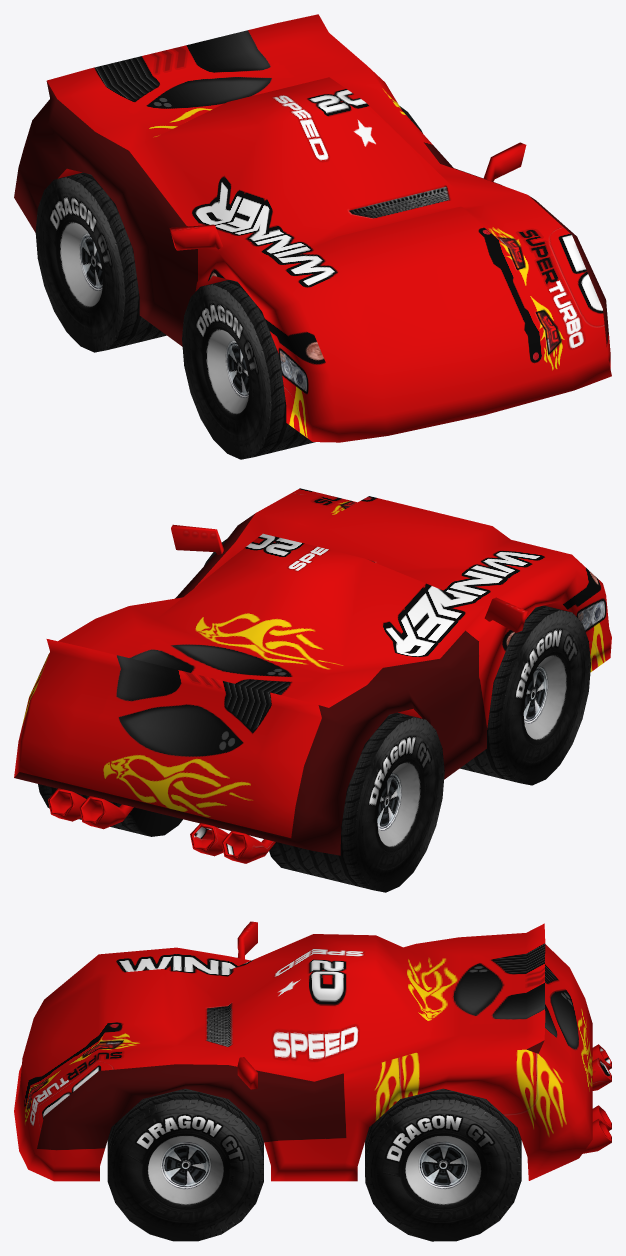
Rendered from dragonGT.fbx.
3 views of the same model, one above another, from view 1: azimuth 30°, elevation 25°; view 2: azimuth 150°, elevation 25°; view 3: azimuth 270°, elevation 25° (orthographic). The views are drawn at different scales.
Visible parts, largest first — view 1: Body, FR_Wheel, RR_Wheel; view 2: Body, RR_Wheel, FR_Wheel, RL_Wheel; view 3: Body, RL_Wheel, FL_Wheel.
Boxes of the visible parts, x1,y1,x2,y2 form: Body: [14, 14, 611, 442]; FR_Wheel: [182, 280, 315, 459]; RR_Wheel: [35, 172, 166, 352]; Body: [14, 488, 611, 863]; RR_Wheel: [269, 712, 444, 892]; FR_Wheel: [460, 605, 590, 785]; RL_Wheel: [38, 784, 182, 836]; Body: [14, 921, 611, 1181]; RL_Wheel: [365, 1088, 521, 1241]; FL_Wheel: [107, 1088, 263, 1241].
Size of the model in its own units: 20.17 by 13.46 by 33.46.
